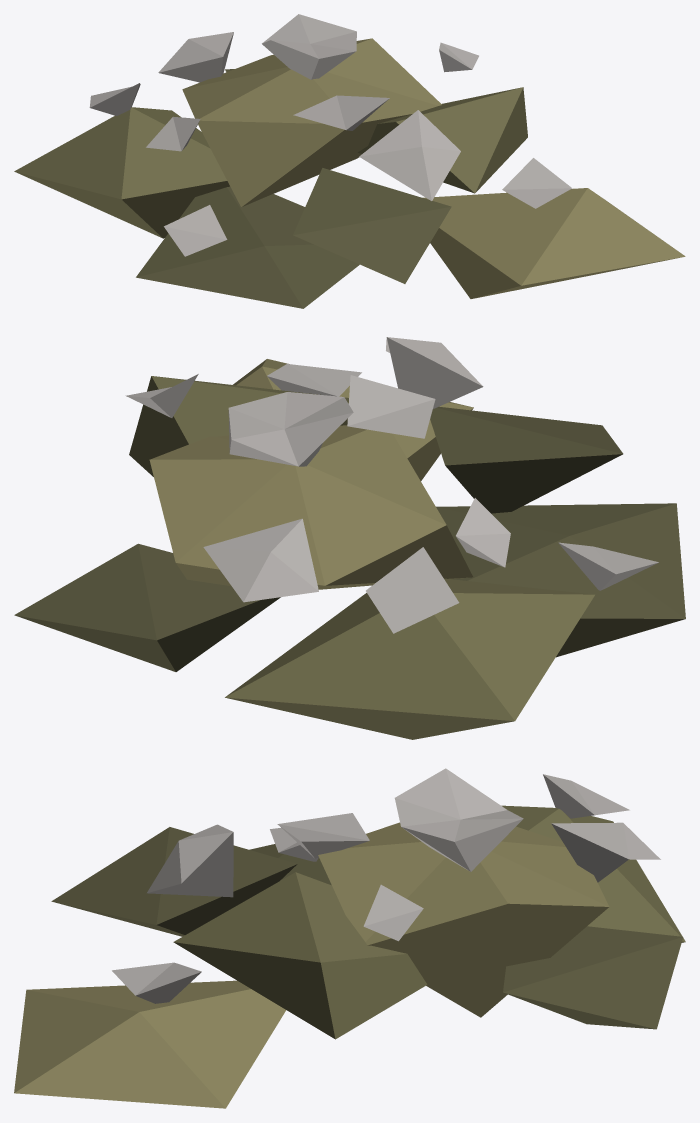
Rendered from SM_Env_Flowers_04.fbx.
3 views of the same model, one above another, from view 1: azimuth 30°, elevation 25°; view 2: azimuth 150°, elevation 25°; view 3: azimuth 270°, elevation 25° (orthographic). The views are drawn at different scales.
Parts seen in each view (by area): view 1: SM_Env_Flowers_04; view 2: SM_Env_Flowers_04; view 3: SM_Env_Flowers_04.
Boxes of the visible parts, bbox=[...] form: SM_Env_Flowers_04: bbox=[14, 14, 685, 308]; SM_Env_Flowers_04: bbox=[14, 337, 685, 739]; SM_Env_Flowers_04: bbox=[14, 768, 685, 1108].
Bounding box in the file's own units: 102 × 46.84 × 110.
